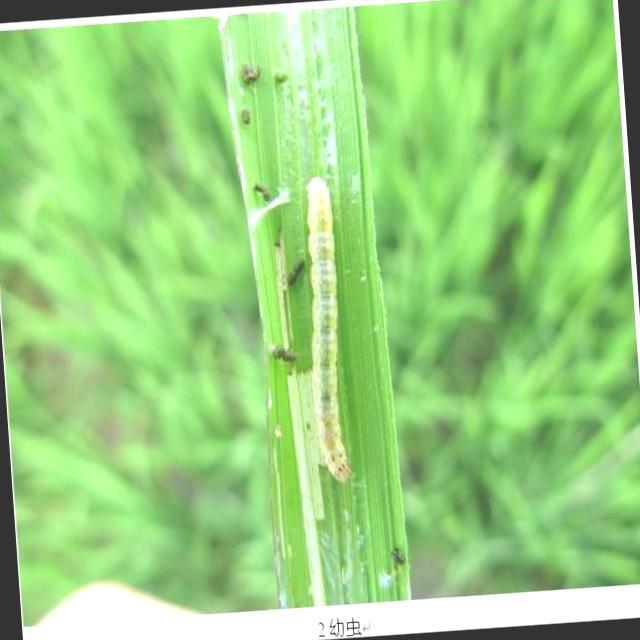leaf folder: (307, 177, 351, 482)
